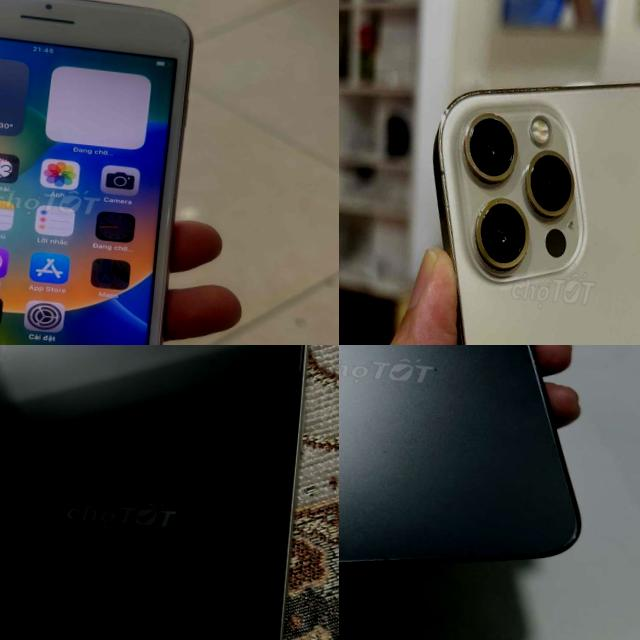gen_11: (0, 345, 319, 640)
gen_12_13: (339, 345, 625, 596), (390, 59, 640, 345)
